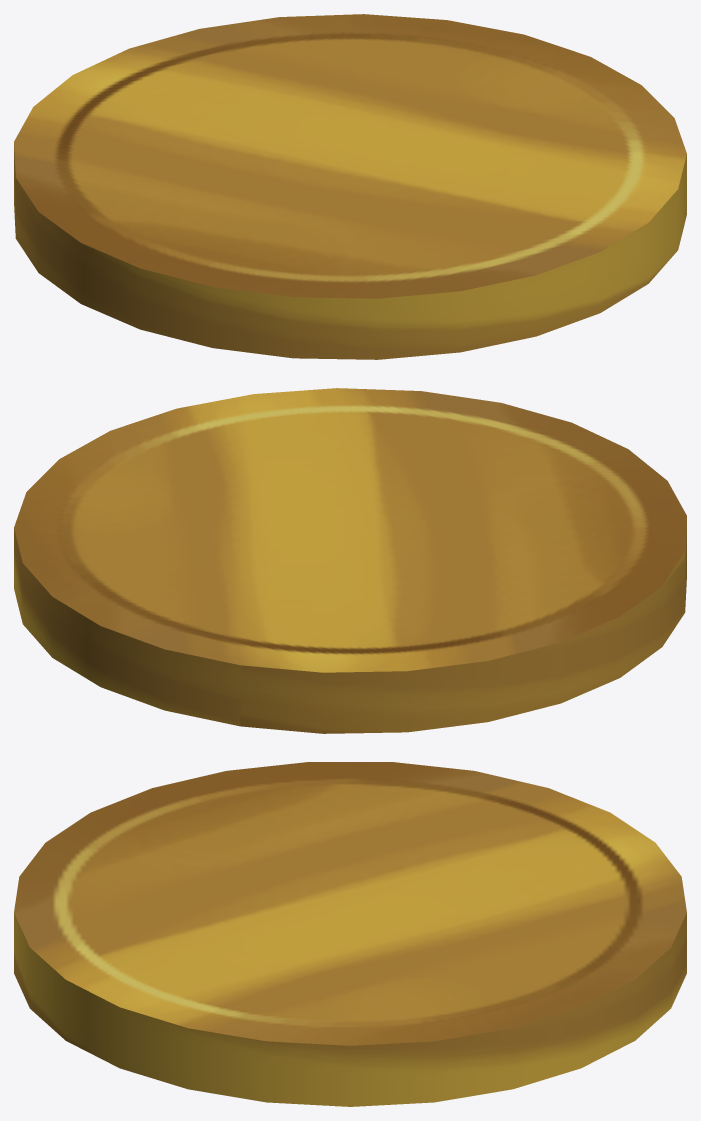
The model's file is Coin.fbx.
3 renders of one model, top to bottom at view 1: azimuth 30°, elevation 25°; view 2: azimuth 150°, elevation 25°; view 3: azimuth 270°, elevation 25°, orthographic.
Visible parts, largest first — view 1: pCylinder1; view 2: pCylinder1; view 3: pCylinder1.
Part boxes in pixels (<box>): pCylinder1: <box>14,14,686,359</box>; pCylinder1: <box>14,388,686,733</box>; pCylinder1: <box>14,762,686,1106</box>.
Bounding box in the file's own units: 1.99 × 0.2 × 2.
Materials: 1 (1 with a texture image).
